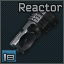AK Hexagon "Reactor" 5.45x39 muzzle brake: (0, 0, 64, 64)
